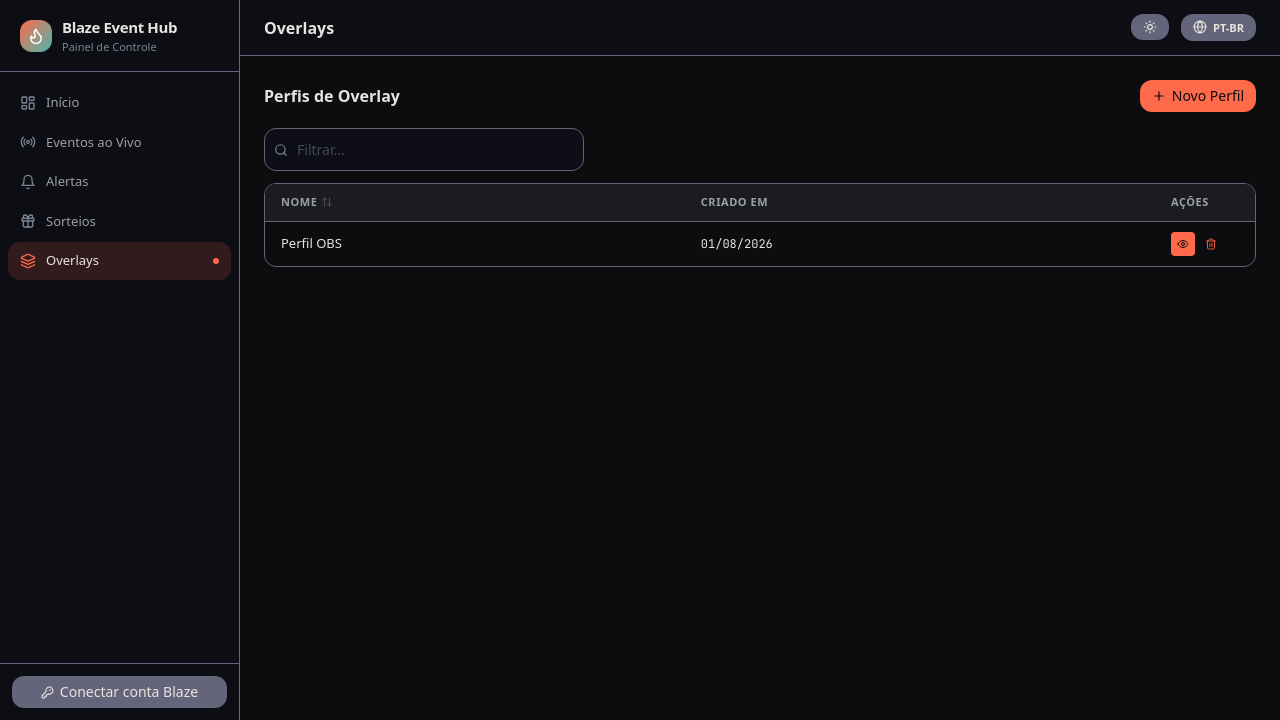
Scenario: Overlays › lists profiles and loads overlays of a profile via the view button
The image size is (1280, 720).
Expected: the text "Perfil OBS" is shown, left=265, top=221, right=685, bottom=266
Click the button named "Ver overlays de Perfil OBS": (1183, 244) left=1171, top=232, right=1195, bottom=256
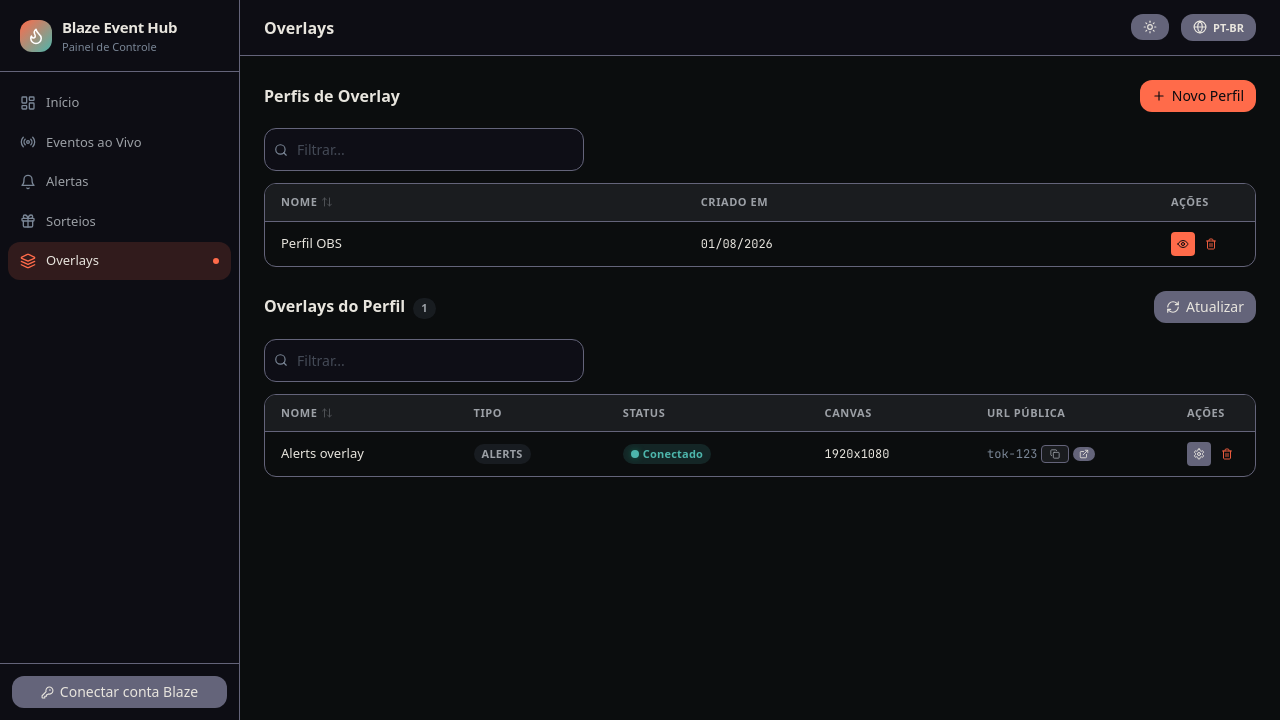
Expected: the text "Overlays do Perfil" is shown, left=264, top=295, right=405, bottom=317
Expected: the text "Alerts overlay" is shown, left=265, top=432, right=458, bottom=476
Expected: the text "ALERTS" is shown, left=474, top=444, right=531, bottom=464
